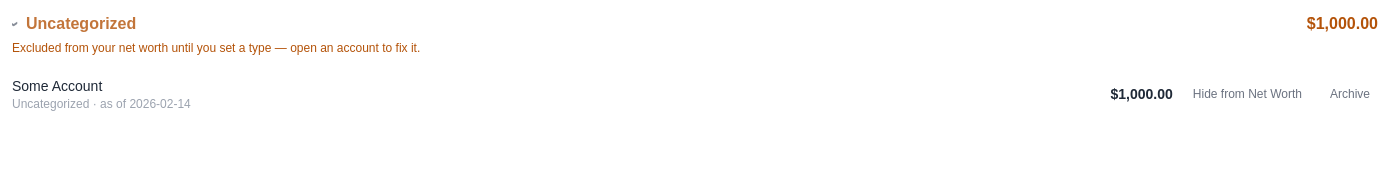
Test case: AccountBucketGroup › hides the uncategorized explanation along with its accounts when collapsed
The image size is (1390, 172).
Click the button "› Uncategorized": click(74, 24) top-left (12, 12), bottom-right (136, 36)
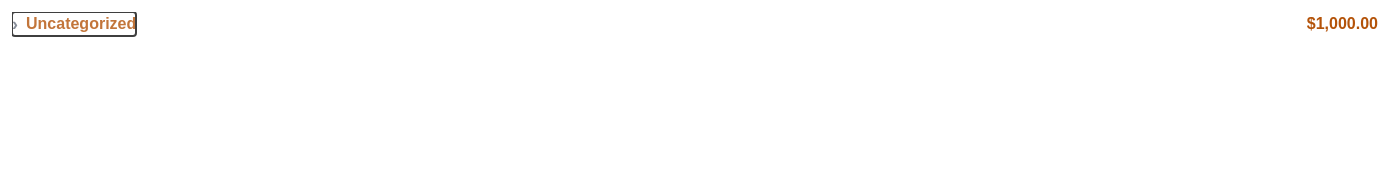
expect the text "Excluded from your net worth" is gone: met
